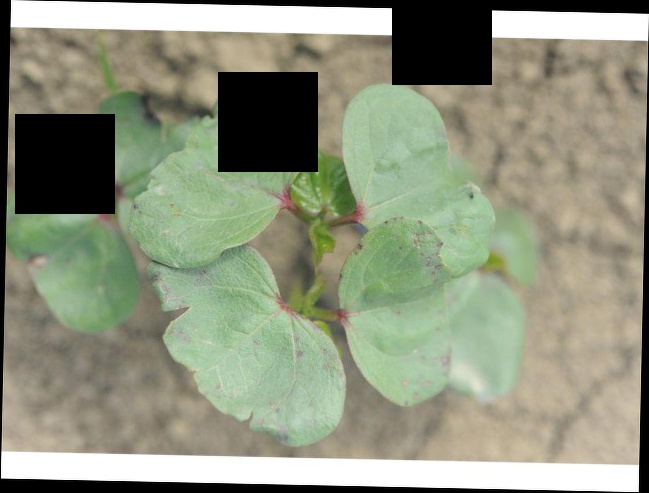cotton: (7, 82, 524, 444)
